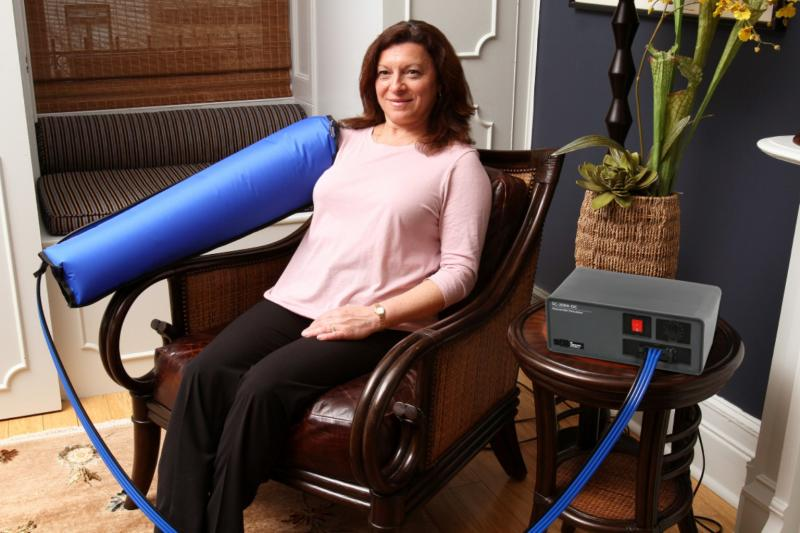patient: (148, 20, 495, 533)
sequential_compression: (28, 115, 726, 533)
sofa: (96, 146, 562, 533)
table: (503, 295, 750, 533)
